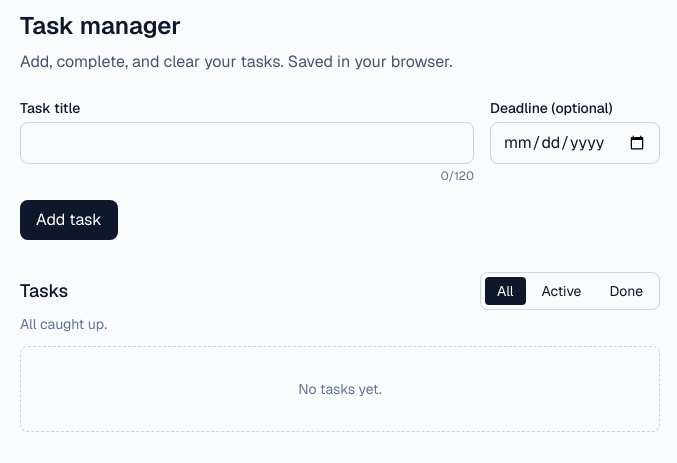
it: TasksPage › announces how many tasks remain
Type "One" into the field labelled "Task title".
click(247, 143); type("One")  # box [20,122,474,164]
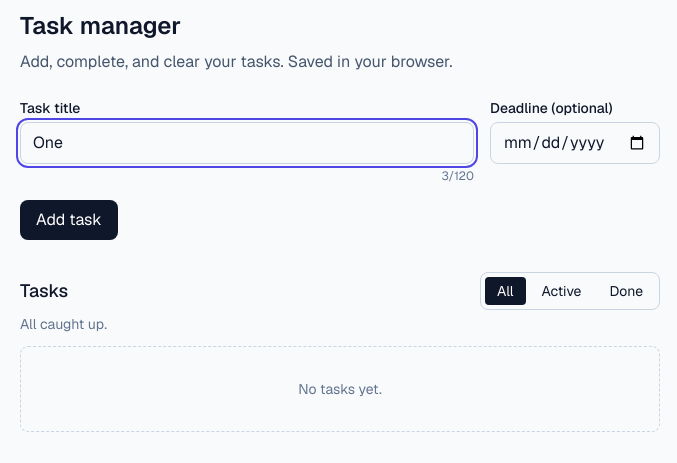
Click the button "Add task".
click(69, 220)  # box [20,200,118,240]
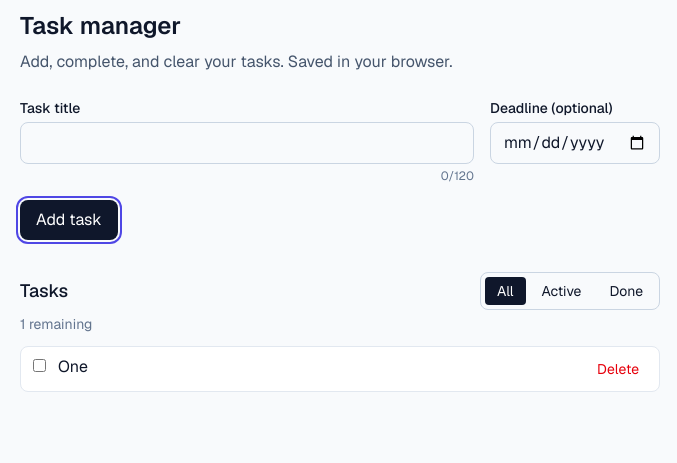
expect the text "1 remaining" is shown: met, box [20,315,92,333]
Type "Two" into the field labelled "Task title".
click(247, 143); type("Two")  # box [20,122,474,164]
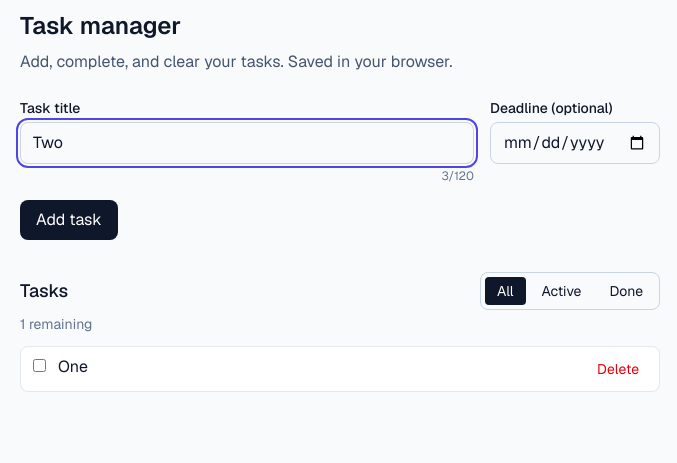
Click the button "Add task".
click(69, 220)  # box [20,200,118,240]
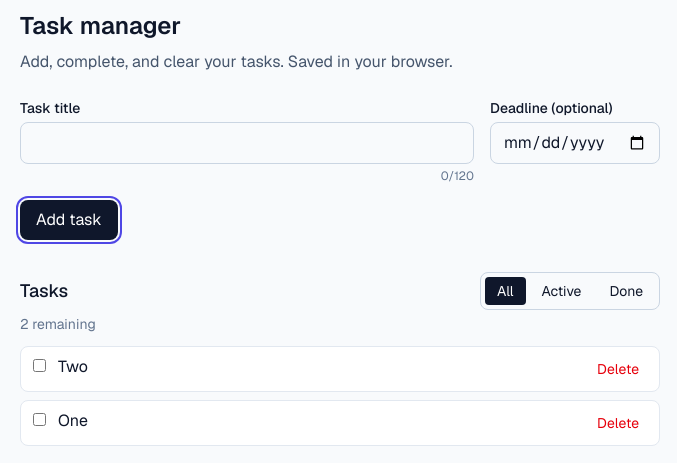
expect the text "2 remaining" is shown: met, box [20,315,96,333]
